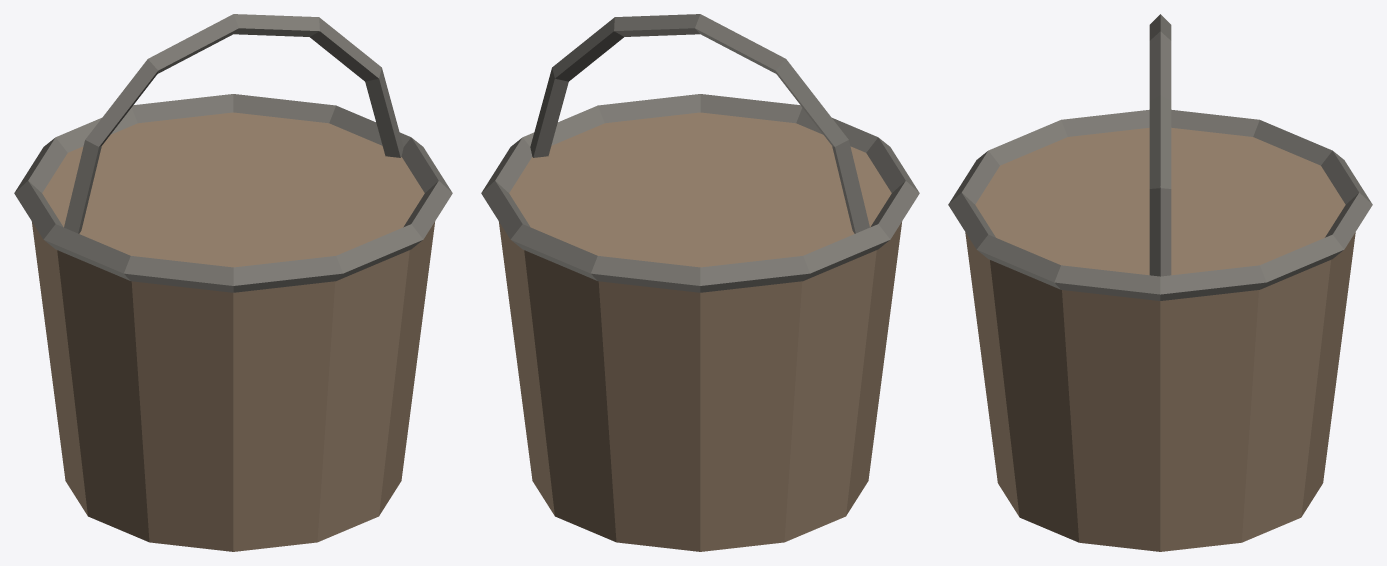
The model's file is bucket.glb.
The picture shows the model from 3 angles, left to right: view 1: azimuth 30°, elevation 25°; view 2: azimuth 150°, elevation 25°; view 3: azimuth 270°, elevation 25°; orthographic projection. The views are drawn at different scales.
Parts seen in each view (by area): view 1: bucket; view 2: bucket; view 3: bucket.
Boxes of the visible parts, x1,y1,x2,y2 form: bucket: (14,14,452,551); bucket: (481,14,919,551); bucket: (948,14,1372,551).
Bounding box in the file's own units: 0.47 × 0.552 × 0.47.
